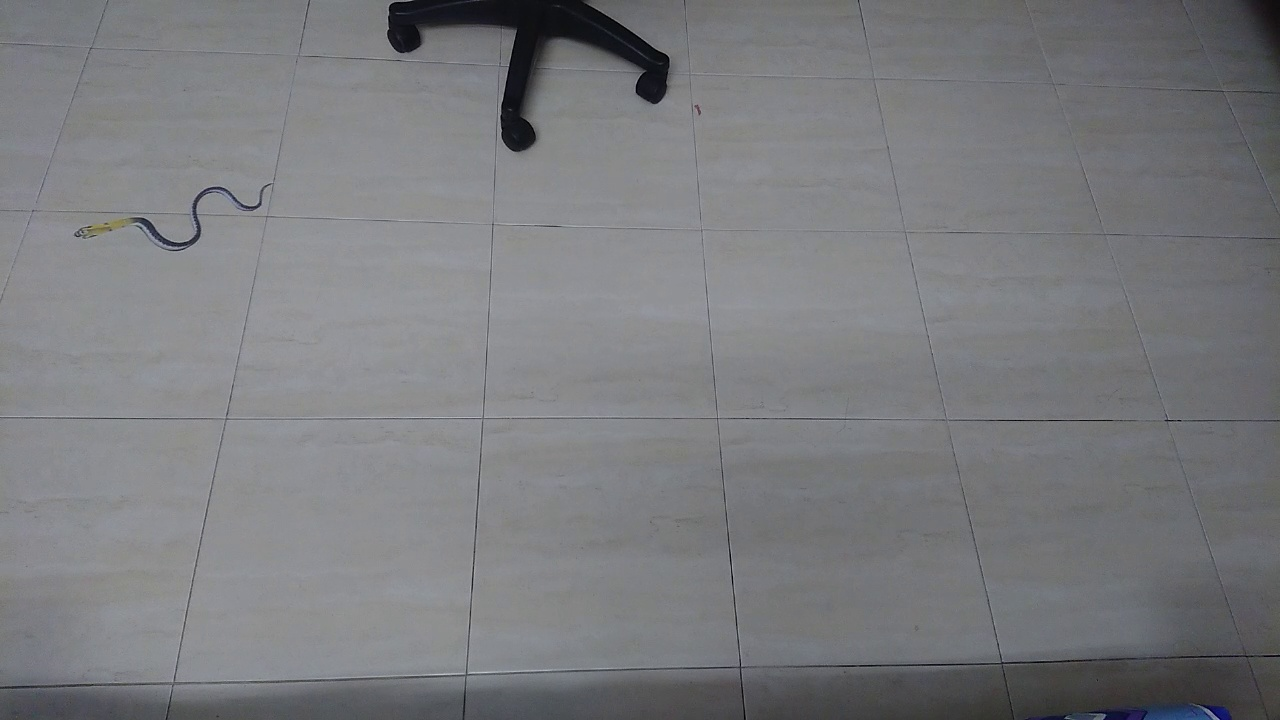snake: (52, 163, 296, 270)
